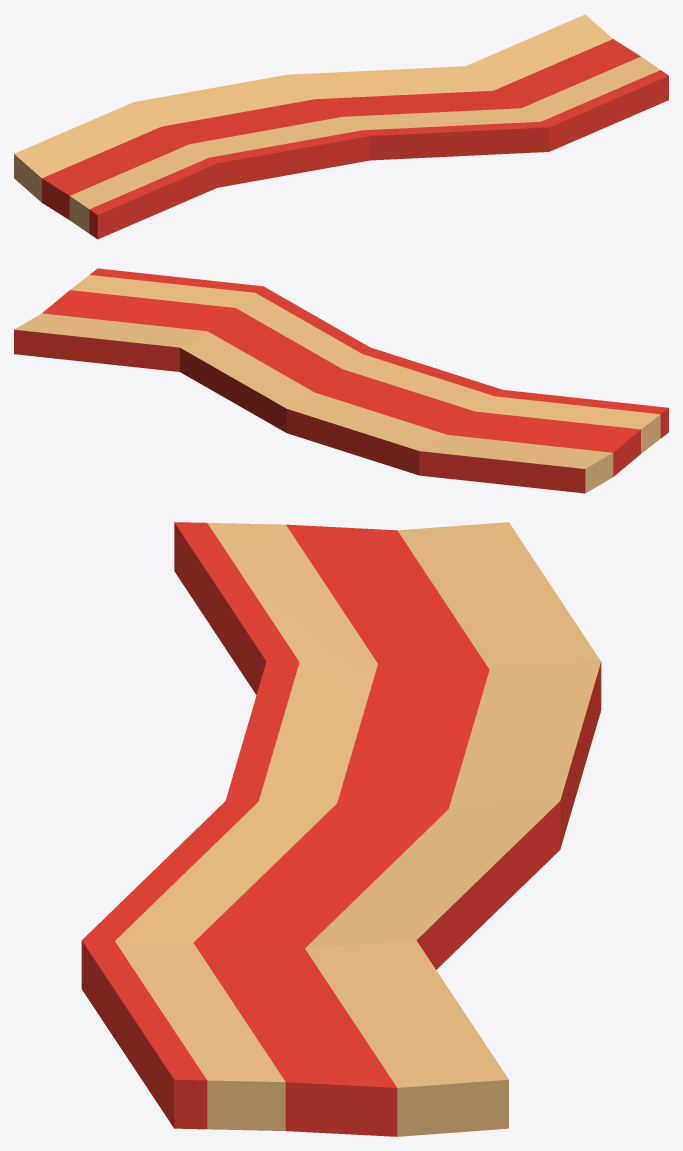
The model's file is bacon1.1 1.fbx.
3 views of the same model, one above another, from view 1: azimuth 30°, elevation 25°; view 2: azimuth 150°, elevation 25°; view 3: azimuth 270°, elevation 25° (orthographic). The views are drawn at different scales.
Parts seen in each view (by area): view 1: Bacon_01.003; view 2: Bacon_01.003; view 3: Bacon_01.003.
Part boxes in pixels (x1=…): Bacon_01.003: x1=14, y1=14, x2=668, y2=239; Bacon_01.003: x1=14, y1=268, x2=668, y2=493; Bacon_01.003: x1=81, y1=522, x2=601, y2=1136.
Size of the model in its own units: 1283 by 61.32 by 505.
